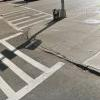Crosswalk: (1, 0, 42, 91)
